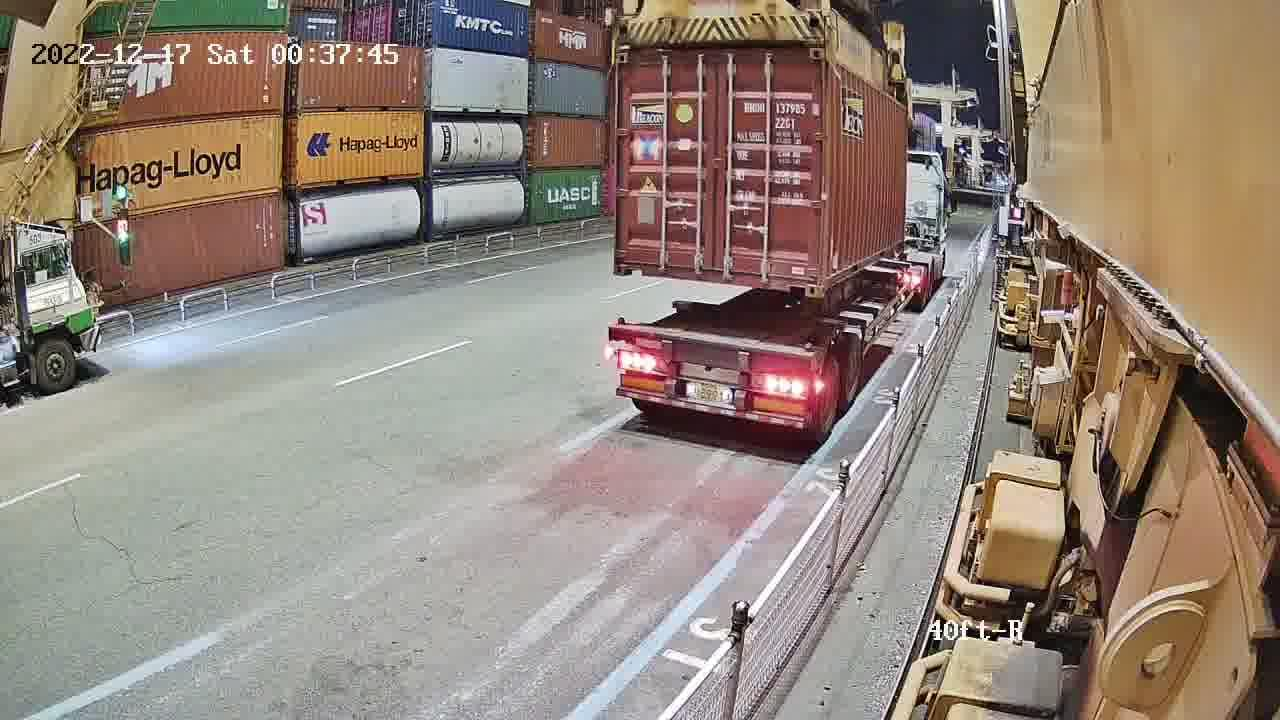Chassis: (608, 328, 814, 374)
Cone: (798, 338, 820, 377), (610, 314, 632, 343)
Hole_L: (612, 243, 657, 275)
Hole_R: (785, 263, 823, 299)
Tire: (818, 362, 840, 427), (841, 337, 862, 401)
